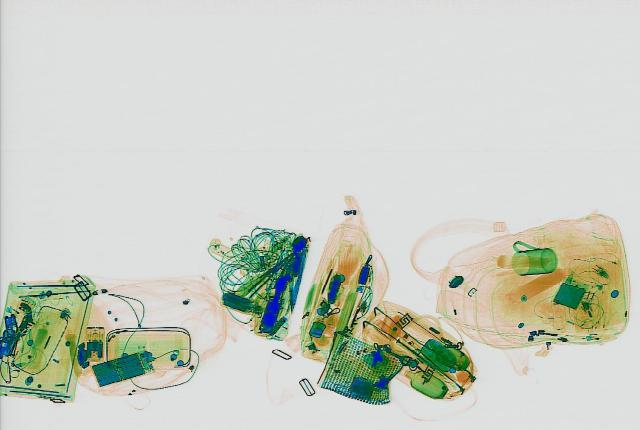Pliers: (240, 249, 298, 297)
